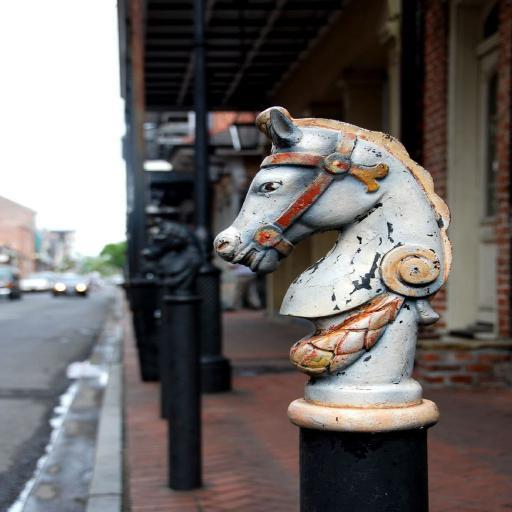horse: (215, 104, 456, 316)
